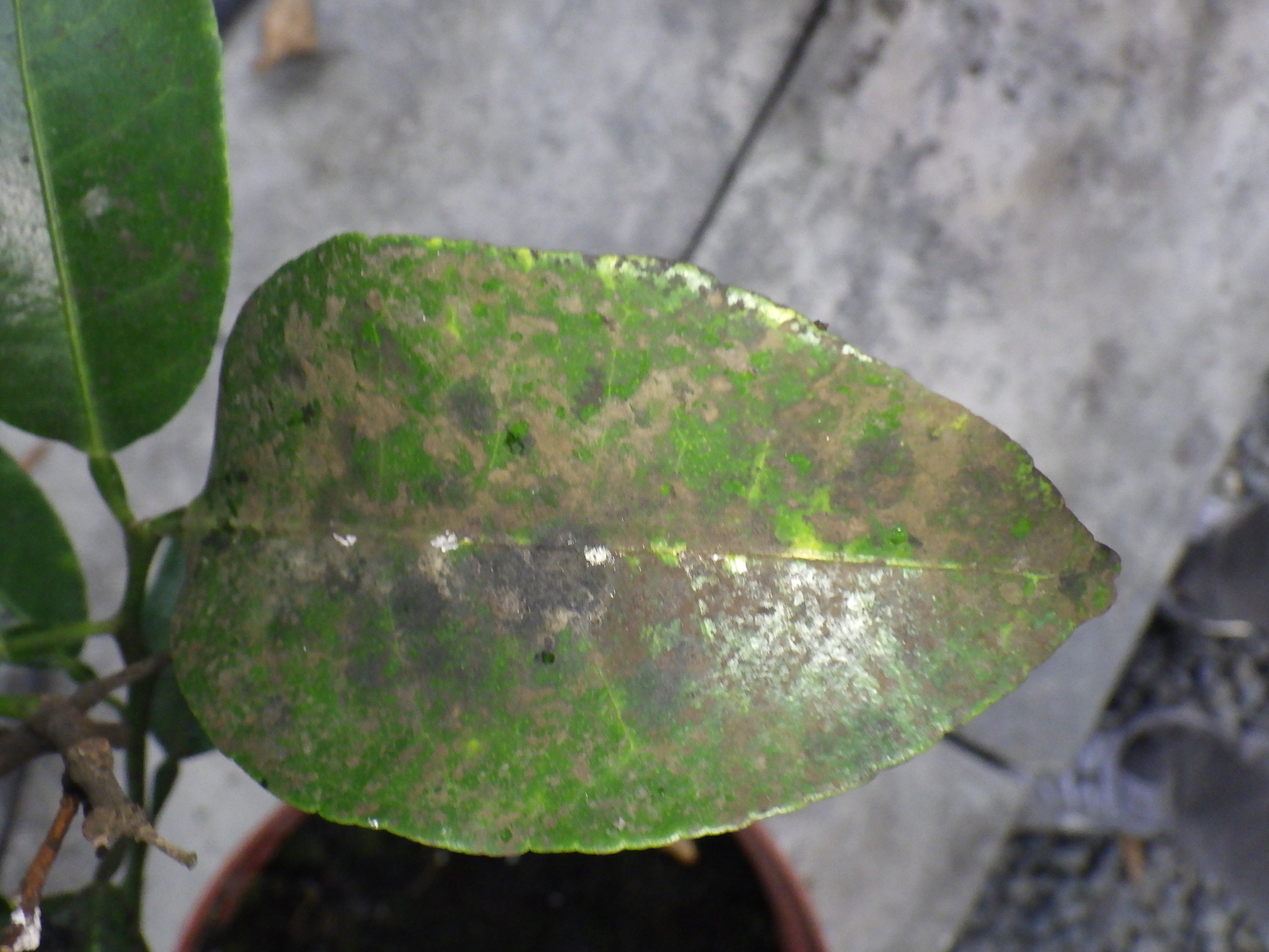Sooty_Mold: (174, 234, 1117, 853)
